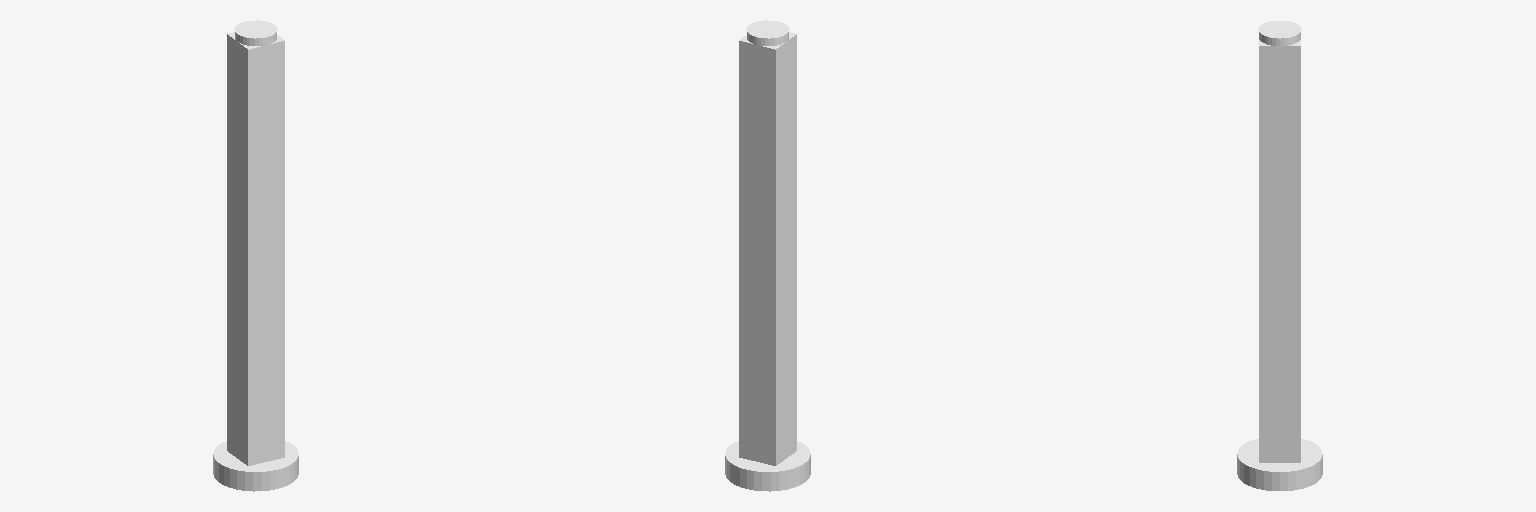
robot.urdf — simple_arm:
<?xml version="1.0"?>
<robot name="simple_arm">

  <link name="world"/>

  <!-- all inertia param below set like Izz = (1/12)*(x^2+y^2), that approximately as box
  -->

  <link name="base">
    <collision>
      <origin rpy="0 0 0" xyz="0 0 0.005"/>
      <geometry>
        <cylinder length="0.01" radius="0.02"/>
      </geometry>
    </collision>
    <visual>
      <origin rpy="0 0 0" xyz="0 0 0.005"/>
      <geometry>
        <cylinder length="0.01" radius="0.02"/>
      </geometry>
      <material name="white">
        <color rgba="1 1 1 0.5"/>
      </material>
    </visual>
    <inertial>
      <origin rpy="0 0 0" xyz="0 0 0.005"/>
      <mass value="1.0"/>
      <inertia ixx="0.00014" ixy="0.0" ixz="0.0"
               iyy="0.00014" iyz="0.0"
               izz="0.000266"/>
    </inertial>
  </link>

  <link name="link1">
    <collision>
      <origin rpy="0 0 0" xyz="0 0 0.01"/>
      <geometry>
        <box size="0.02 0.02 0.03"/>
      </geometry>
    </collision>
    <visual>
      <origin rpy="0 0 0" xyz="0 0 0.01"/>
      <geometry>
        <box size="0.02 0.02 0.03"/>
      </geometry>
      <material name="white">
        <color rgba="1 1 1 0.5"/>
      </material>
    </visual>
    <inertial>
      <origin rpy="0 0 0" xyz="0 0 0"/>
      <mass value="1.0"/>
      <inertia ixx="0.000108" ixy="0.0" ixz="0.0" 
               iyy="0.000108" iyz="0.0" 
               izz="0.000066"/>
    </inertial>
  </link>

  <link name="link2">
    <collision>
      <origin rpy="0 0 0" xyz="0 0 0.045"/>
      <geometry>
        <box size="0.02 0.02 0.1"/>
      </geometry>
    </collision>
    <visual>
      <origin rpy="0 0 0" xyz="0 0 0.045"/>
      <geometry>
        <box size="0.02 0.02 0.1"/>
      </geometry>
      <material name="gray">
        <color rgba="1 1 1 0.5"/>
      </material>
    </visual>
    <inertial>
      <origin rpy="0 0 0" xyz="0 0 0"/>
      <mass value="0.6"/>
      <inertia ixx="0.00052" ixy="0.0" ixz="0.0" 
               iyy="0.00052" iyz="0.0" 
               izz="0.00004"/>
    </inertial>
  </link>

  <link name="link3">
    <collision>
      <origin rpy="0 0 0" xyz="0 0 0.045"/>
      <geometry>
        <box size="0.02 0.02 0.1"/>
      </geometry>
    </collision>
    <visual>
      <origin rpy="0 0 0" xyz="0 0 0.045"/>
      <geometry>
        <box size="0.02 0.02 0.1"/>
      </geometry>
      <material name="gray">
        <color rgba="1 1 1 0.5"/>
      </material>
    </visual>
    <inertial>
      <origin rpy="0 0 0" xyz="0 0 0"/>
      <mass value="0.6"/>
      <inertia ixx="0.00052" ixy="0.0" ixz="0.0" 
               iyy="0.00052" iyz="0.0" 
               izz="0.00004"/>
    </inertial>
  </link>

  <link name="link4">
    <collision>
      <origin rpy="0 0 0" xyz="0 0 0.005"/>
      <geometry>
        <box size="0.02 0.02 0.02"/>
      </geometry>
    </collision>
    <visual>
      <origin rpy="0 0 0" xyz="0 0 0.005"/>
      <geometry>
        <box size="0.02 0.02 0.02"/>
      </geometry>
      <material name="gray">
        <color rgba="1 1 1 0.5"/>
      </material>
    </visual>
    <inertial>
      <origin rpy="0 0 0" xyz="0 0 0"/>
      <mass value="0.3"/>
      <inertia ixx="0.00002" ixy="0.0" ixz="0.0" 
               iyy="0.00002" iyz="0.0" 
               izz="0.00002"/>
    </inertial>
  </link>

  <link name="link5">
    <collision>
      <origin rpy="0 0 0" xyz="0 0 0.003"/>
      <geometry>
        <cylinder length="0.006" radius="0.01"/>
      </geometry>
    </collision>
    <visual>
      <origin rpy="0 0 0" xyz="0 0 0.003"/>
      <geometry>
        <cylinder length="0.006" radius="0.01"/>
      </geometry>
      <material name="gray">
        <color rgba="1 1 1 0.5"/>
      </material>
    </visual>
    <inertial>
      <origin rpy="0 0 0" xyz="0 0 0"/>
      <mass value="0.2"/>
      <inertia ixx="0.00000726" ixy="0.0" ixz="0.0" 
               iyy="0.00000726" iyz="0.0" 
               izz="0.0000133"/>
    </inertial>
  </link>

  <joint name="fixed" type="fixed">
    <parent link="world"/>
    <child link="base"/>
  </joint>

  <joint name="joint1" type="revolute">
    <parent link="base"/>
    <child link="link1"/>
    <axis xyz="0 0 1"/>
    <origin rpy="0 0 0" xyz="0 0 0.01"/>
    <limit effort="10000" lower="-3.14" upper="3.14" velocity="0.5"/>
  </joint>

  <joint name="joint2" type="revolute">
    <parent link="link1"/>
    <child link="link2"/>
    <axis xyz="0 1 0"/>
    <origin rpy="0 0 0" xyz="0 0 0.02"/>
    <limit effort="10000" lower="-1.0" upper="1.0" velocity="0.5"/>
  </joint>

  <joint name="joint3" type="revolute">
    <parent link="link2"/>
    <child link="link3"/>
    <axis xyz="0 1 0"/>
    <origin rpy="0 0 0" xyz="0 0 0.09"/>
    <limit effort="10000" lower="-1.0" upper="1.0" velocity="0.5"/>
  </joint>

  <joint name="joint4" type="revolute">
    <parent link="link3"/>
    <child link="link4"/>
    <axis xyz="0 1 0"/>
    <origin rpy="0 0 0" xyz="0 0 0.09"/>
    <limit effort="10000" lower="-1.0" upper="1.0" velocity="0.5"/>
  </joint>

  <joint name="joint5" type="revolute">
    <parent link="link4"/>
    <child link="link5"/>
    <axis xyz="0 0 1"/>
    <origin rpy="0 0 0" xyz="0 0 0.013"/>
    <limit effort="10000" lower="-3.14" upper="3.14" velocity="0.5"/>
  </joint>


  <gazebo>
    <plugin name="gazebo_ros_control" filename="libgazebo_ros_control.so">
      <robotNamespace>/simple_arm</robotNamespace>
      <robotSimType>gazebo_ros_control/DefaultRobotHWSim</robotSimType>
    </plugin>
  </gazebo>

  <transmission name="tran1">
    <type>transmission_interface/SimpleTransmission</type>
    <joint name="joint1">
      <hardwareInterface>EffortJointInterface</hardwareInterface>
    </joint>
    <actuator name="motor1">
      <hardwareInterface>EffortJointInterface</hardwareInterface>
      <mechanicalReduction>1</mechanicalReduction>
    </actuator>
  </transmission>
  <transmission name="tran2">
    <type>transmission_interface/SimpleTransmission</type>
    <joint name="joint2">
      <hardwareInterface>EffortJointInterface</hardwareInterface>
    </joint>
    <actuator name="motor2">
      <hardwareInterface>EffortJointInterface</hardwareInterface>
      <mechanicalReduction>1</mechanicalReduction>
    </actuator>
  </transmission>
  <transmission name="tran3">
    <type>transmission_interface/SimpleTransmission</type>
    <joint name="joint3">
      <hardwareInterface>EffortJointInterface</hardwareInterface>
    </joint>
    <actuator name="motor3">
      <hardwareInterface>EffortJointInterface</hardwareInterface>
      <mechanicalReduction>1</mechanicalReduction>
    </actuator>
  </transmission>
  <transmission name="tran4">
    <type>transmission_interface/SimpleTransmission</type>
    <joint name="joint4">
      <hardwareInterface>EffortJointInterface</hardwareInterface>
    </joint>
    <actuator name="motor4">
      <hardwareInterface>EffortJointInterface</hardwareInterface>
      <mechanicalReduction>1</mechanicalReduction>
    </actuator>
  </transmission>
  <transmission name="tran5">
    <type>transmission_interface/SimpleTransmission</type>
    <joint name="joint5">
      <hardwareInterface>EffortJointInterface</hardwareInterface>
    </joint>
    <actuator name="motor5">
      <hardwareInterface>EffortJointInterface</hardwareInterface>
      <mechanicalReduction>1</mechanicalReduction>
    </actuator>
  </transmission>


</robot>

--- What the picture shows (computed from the rendered views, not written in the file) ---
3 views of the same robot in one strip: view 1: azimuth 30°, elevation 25°; view 2: azimuth 150°, elevation 25°; view 3: azimuth 270°, elevation 25° (orthographic).
Model simple_arm with 7 links and 6 joints (5 revolute, 1 fixed), rooted at world, posed every joint at zero.
Visible links, largest first — view 1: link3, link2, base, link1, link4, link5; view 2: link3, link2, base, link1, link4, link5; view 3: link2, link3, base, link1, link4, link5.
Boxes of the visible links, x1,y1,x2,y2 form: link3: (227,54,284,262); link2: (227,228,284,433); base: (213,441,298,491); link1: (227,403,284,465); link4: (227,32,284,87); link5: (235,20,276,45); link3: (739,54,796,262); link2: (739,231,796,434); base: (725,441,810,491); link1: (739,403,796,465); link4: (739,32,796,87); link5: (747,20,788,45); link2: (1259,240,1300,431); link3: (1259,71,1300,256); base: (1237,439,1322,490); link1: (1259,415,1300,462); link4: (1259,40,1300,84); link5: (1259,21,1300,45).
Bounding box of the posed robot: 0.04 × 0.04 × 0.229 m (x, y, z).
Geometry: primitives only (box / cylinder / sphere), no mesh files.